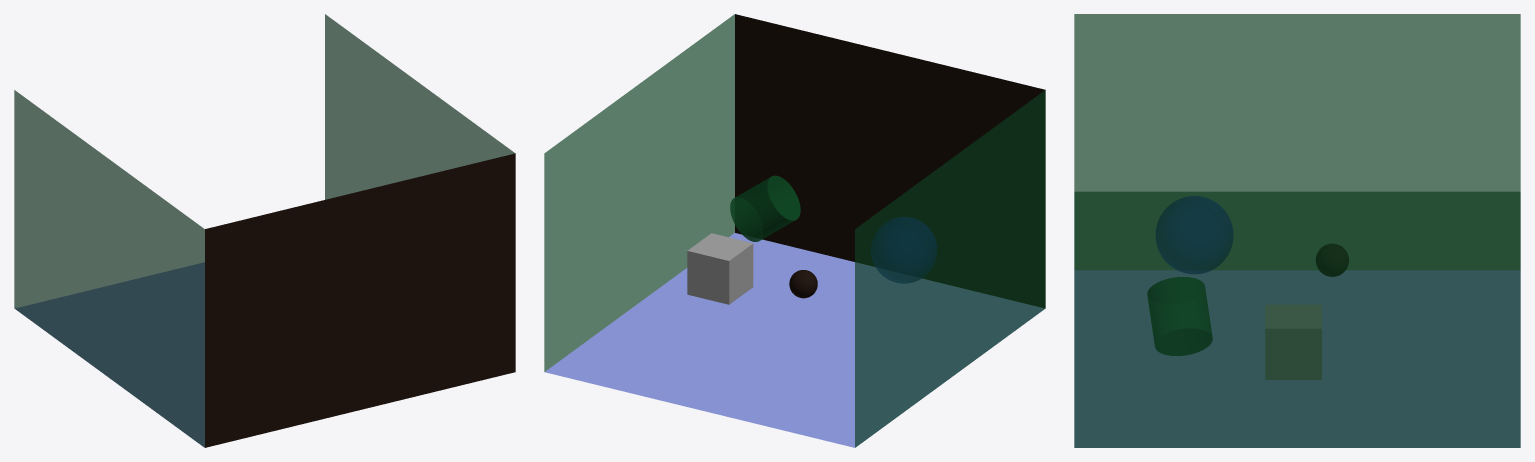
File: materials_flat.obj
The picture shows the model from 3 angles, left to right: view 1: azimuth 30°, elevation 25°; view 2: azimuth 150°, elevation 25°; view 3: azimuth 270°, elevation 25°; orthographic projection. The views are drawn at different scales.
Parts seen in each view (by area): view 1: Cube; view 2: Cube, Cube.001, Sphere, Cylinder, Sphere.001; view 3: Cube, Sphere, Cube.001, Cylinder, Sphere.001.
Part boxes in pixels (left/top/right/bottom): Cube: left=14, top=14, right=515, bottom=447; Cube: left=544, top=14, right=1045, bottom=447; Cube.001: left=687, top=233, right=753, bottom=304; Sphere: left=871, top=217, right=936, bottom=283; Cylinder: left=730, top=175, right=800, bottom=241; Sphere.001: left=789, top=270, right=817, bottom=298; Cube: left=1074, top=14, right=1520, bottom=447; Sphere: left=1156, top=196, right=1232, bottom=273; Cube.001: left=1265, top=305, right=1321, bottom=379; Cylinder: left=1147, top=277, right=1212, bottom=355; Sphere.001: left=1316, top=244, right=1348, bottom=276.
Bounding box in the file's own units: 4.81 × 3.24 × 5.11.
